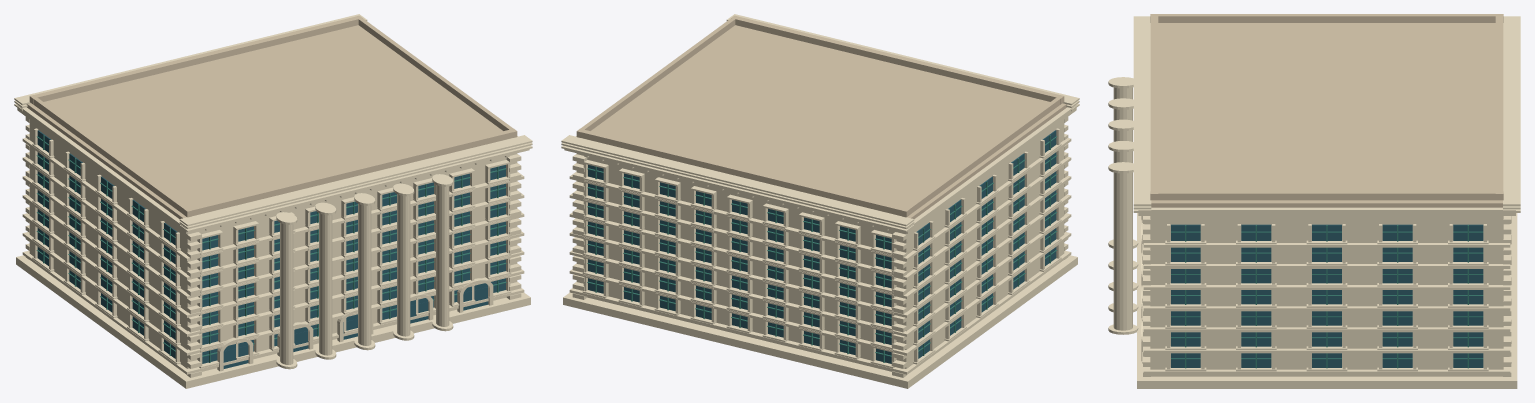
Rendered from jardine-matheson.glb.
The picture shows the model from 3 angles, left to right: view 1: azimuth 30°, elevation 25°; view 2: azimuth 150°, elevation 25°; view 3: azimuth 270°, elevation 25°; orthographic projection. The views are drawn at different scales.
Visible parts, largest first — view 1: jardine-matheson; view 2: jardine-matheson; view 3: jardine-matheson.
Boxes of the visible parts, x1=… form: jardine-matheson: x1=14, y1=14, x2=532, y2=388; jardine-matheson: x1=561, y1=14, x2=1079, y2=388; jardine-matheson: x1=1108, y1=14, x2=1520, y2=388.
Size of the model in its own units: 50.23 by 23.8 by 46.54.
